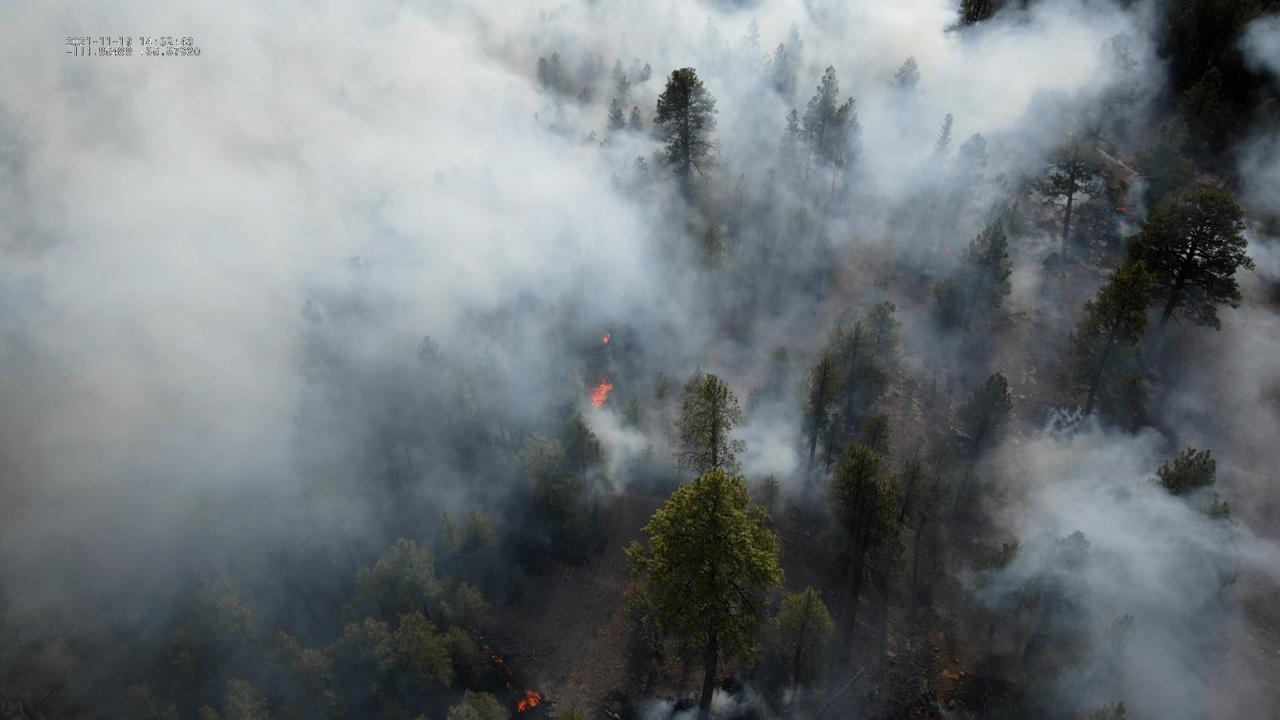fire: (587, 375, 614, 411), (516, 687, 543, 714), (483, 645, 505, 664), (1115, 205, 1127, 213), (505, 681, 514, 691), (601, 335, 609, 345)
smoke: (0, 0, 1280, 720)
